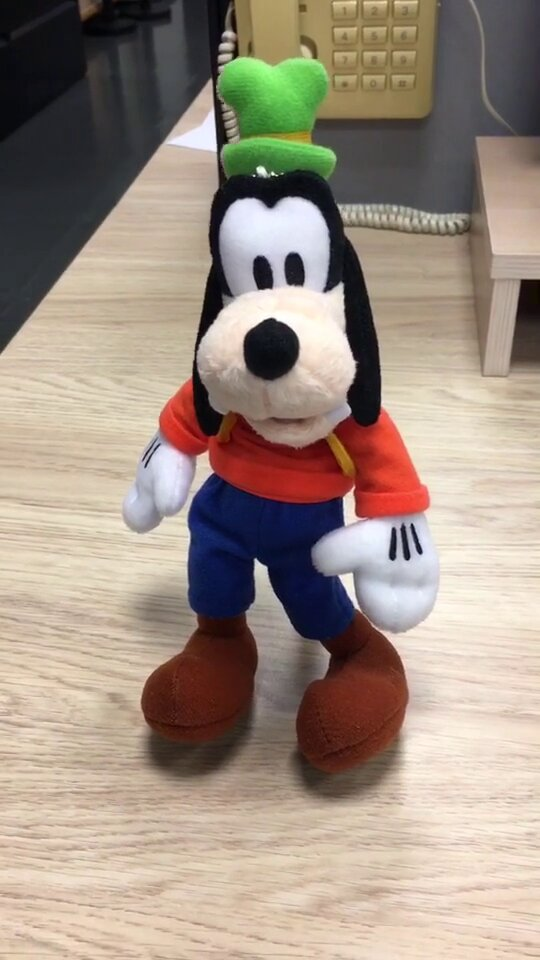goofy: (115, 51, 446, 782)
